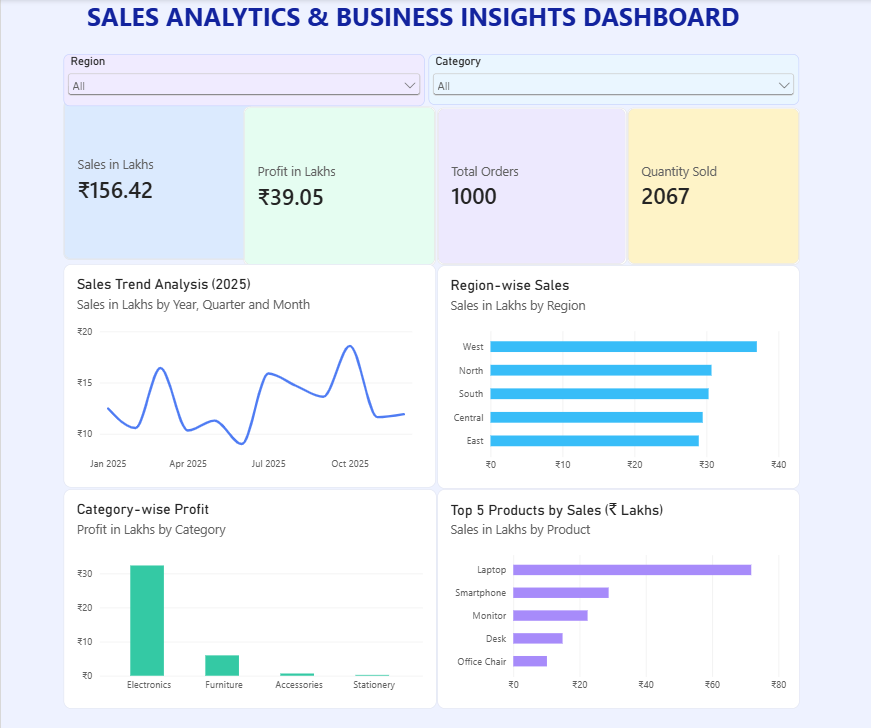

Layout of this report page (visuals, bound fields, positions):
{"tool":"powerbi","page":{"name":"Sales Analytics Dashboard","canvas":[1200,950],"ordinal":0},"visuals":[{"type":"cardVisual","fields":{"Data":["sales_analytics_dataset.Sales in Lakhs"]},"box":[80.2,129.7,238.5,203.3],"z":0},{"type":"cardVisual","fields":{"Data":["sales_analytics_dataset.Profit in Lakhs"]},"box":[309.1,136.4,245,203.3],"z":1000},{"type":"cardVisual","fields":{"Data":["sales_analytics_dataset.Total Orders"]},"box":[555,138.3,241.7,200],"z":2000},{"type":"cardVisual","fields":{"Data":["sales_analytics_dataset.Quantity Sold"]},"box":[797.1,138.6,220,200],"z":3000},{"type":"lineChart","title":"Sales Trend Analysis (2025)","fields":{"Category":["sales_analytics_dataset.Order_Date.Variation.Date Hierarchy.Year","sales_analytics_dataset.Order_Date.Variation.Date Hierarchy.Quarter","sales_analytics_dataset.Order_Date.Variation.Date Hierarchy.Month","sales_analytics_dataset.Order_Date.Variation.Date Hierarchy.Day"],"Y":["sales_analytics_dataset.Sales in Lakhs"]},"box":[80.2,337.4,474.7,284.6],"z":4000},{"type":"clusteredBarChart","title":"Region-wise Sales","fields":{"Category":["sales_analytics_dataset.Region"],"Y":["sales_analytics_dataset.Sales in Lakhs"]},"box":[555,338.3,461.7,285],"z":5000},{"type":"clusteredColumnChart","title":"Category-wise Profit","fields":{"Category":["sales_analytics_dataset.Category"],"Y":["sales_analytics_dataset.Profit in Lakhs"]},"box":[80,623.3,475,280],"z":6000},{"type":"clusteredBarChart","title":"Top 5 Products by Sales (₹ Lakhs)","fields":{"Category":["sales_analytics_dataset.Product"],"Y":["sales_analytics_dataset.Sales in Lakhs"]},"box":[555,623.3,461.7,280],"z":7000},{"type":"slicer","fields":{"Values":["sales_analytics_dataset.Region"]},"box":[80,70,460,66],"z":8000},{"type":"slicer","fields":{"Values":["sales_analytics_dataset.Category"]},"box":[545,70,471.7,65],"z":9000},{"type":"textbox","box":[0,0,1050,70],"z":10000}]}

Visuals, with their boxes on the page's 1200x950 design canvas (x1, y1, x2, y2). These are canvas units, not pixel positions in the 871x728 screenshot, which may show the page scaled, cropped or inside an application window:
cardVisual - sales_analytics_dataset.Sales in Lakhs: l=80, t=130, r=319, b=333
cardVisual - sales_analytics_dataset.Profit in Lakhs: l=309, t=136, r=554, b=340
cardVisual - sales_analytics_dataset.Total Orders: l=555, t=138, r=797, b=338
cardVisual - sales_analytics_dataset.Quantity Sold: l=797, t=139, r=1017, b=339
"Sales Trend Analysis (2025)" lineChart: l=80, t=337, r=555, b=622
"Region-wise Sales" clusteredBarChart: l=555, t=338, r=1017, b=623
"Category-wise Profit" clusteredColumnChart: l=80, t=623, r=555, b=903
"Top 5 Products by Sales (₹ Lakhs)" clusteredBarChart: l=555, t=623, r=1017, b=903
slicer - sales_analytics_dataset.Region: l=80, t=70, r=540, b=136
slicer - sales_analytics_dataset.Category: l=545, t=70, r=1017, b=135
textbox: l=0, t=0, r=1050, b=70
